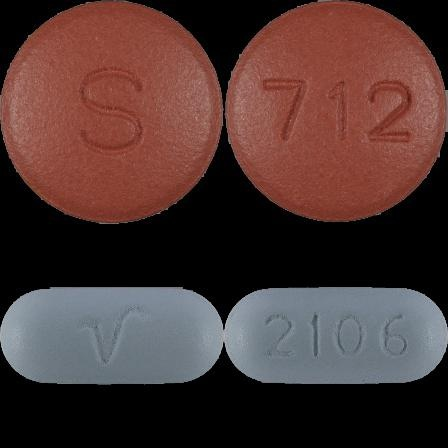68258-7159: (0, 0, 224, 224)
